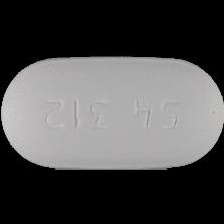0054-0037: (0, 0, 224, 224)
